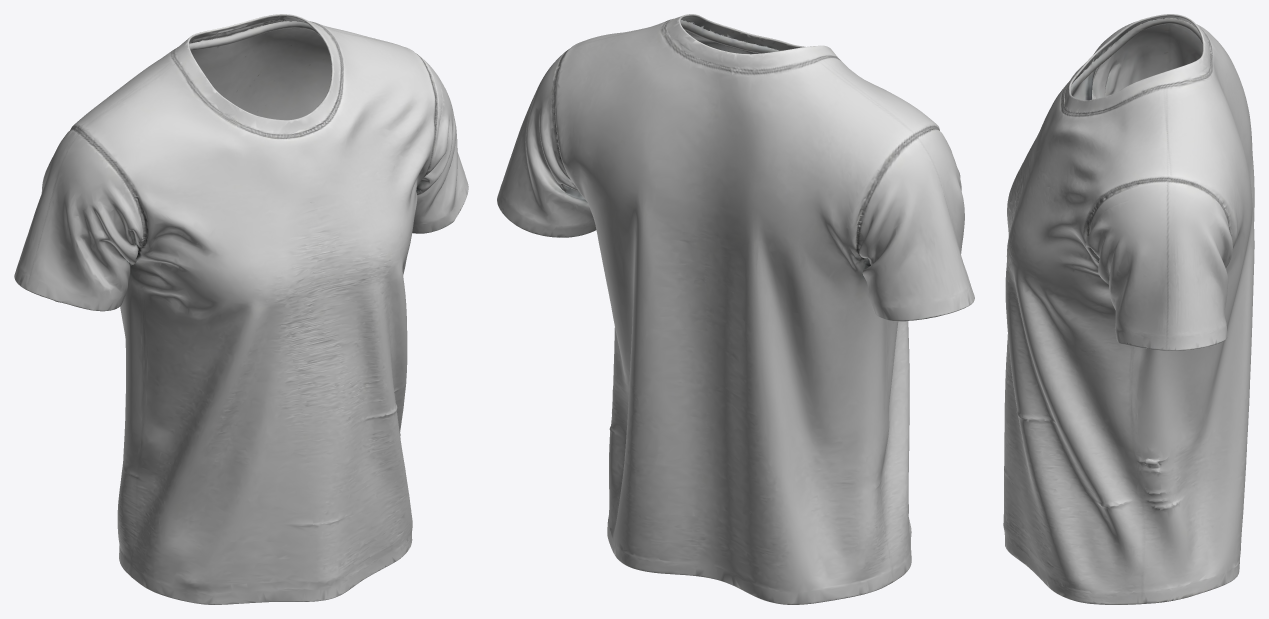
The model's file is shirt-83d8b75ef969.glb.
The picture shows the model from 3 angles, left to right: view 1: azimuth 30°, elevation 25°; view 2: azimuth 150°, elevation 25°; view 3: azimuth 270°, elevation 25°; orthographic projection. The views are drawn at different scales.
Parts seen in each view (by area): view 1: tripo_node_5a683399-5595-4c0f-8c52-b7cc3313ade6; view 2: tripo_node_5a683399-5595-4c0f-8c52-b7cc3313ade6; view 3: tripo_node_5a683399-5595-4c0f-8c52-b7cc3313ade6.
Boxes of the visible parts, left/top/right/bottom form: tripo_node_5a683399-5595-4c0f-8c52-b7cc3313ade6: left=14, top=14, right=468, bottom=604; tripo_node_5a683399-5595-4c0f-8c52-b7cc3313ade6: left=497, top=14, right=974, bottom=604; tripo_node_5a683399-5595-4c0f-8c52-b7cc3313ade6: left=1003, top=14, right=1254, bottom=604.
Bounding box in the file's own units: 0.6875 × 0.75 × 0.3382.
Materials: 1 (1 with a texture image).
